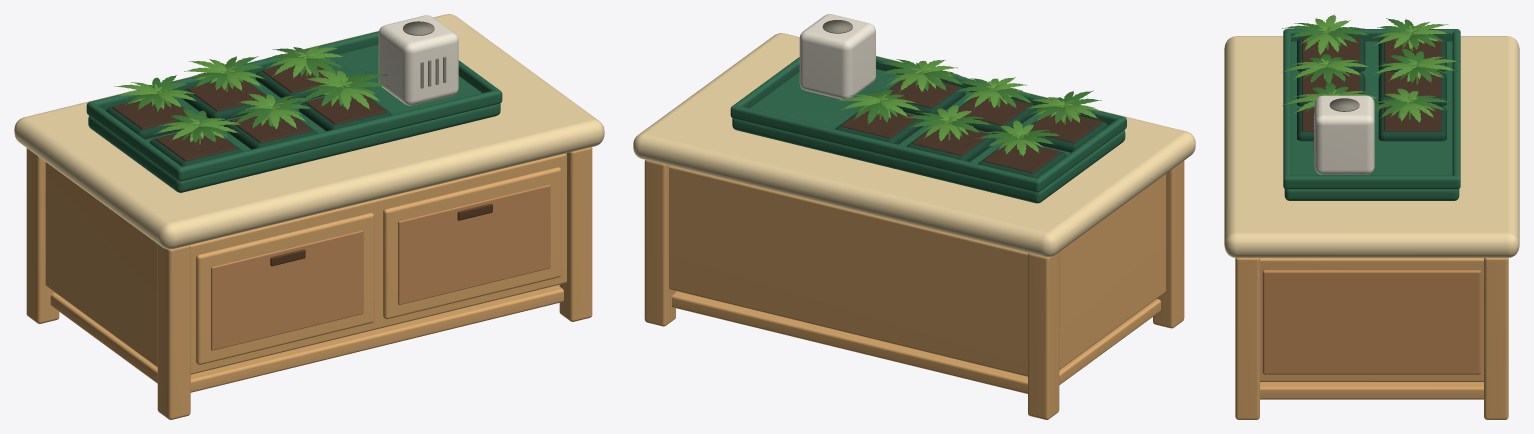
File: seeds_bench_tier1.glb
The picture shows the model from 3 angles, left to right: view 1: azimuth 30°, elevation 25°; view 2: azimuth 150°, elevation 25°; view 3: azimuth 270°, elevation 25°; orthographic projection. The views are drawn at different scales.
Parts seen in each view (by area): view 1: Top, Carcass, DrawerInset0, DrawerInset1, Stretcher, Tray, Drawer1, Drawer0, Leg-1-1, Humidifier, TrayRim1, Leg1-1 (+16 smaller); view 2: Carcass, Top, Tray, Stretcher, Humidifier, Leg-11, TrayRim0, Leg11, Leg-1-1, TrayRim3, Soil10, Soil00 (+12 smaller); view 3: Top, EndPanel, Tray, Carcass, Humidifier, Leg1-1, Leg11, Stretcher, TrayRim2, TrayRim0, TrayRim1, Soil12 (+32 smaller).
Part boxes in pixels (x1=…): Top: x1=14, y1=14, x2=604, y2=249; Carcass: x1=45, y1=153, x2=566, y2=374; DrawerInset0: x1=211, y1=230, x2=363, y2=350; DrawerInset1: x1=398, y1=184, x2=550, y2=304; Stretcher: x1=50, y1=285, x2=563, y2=392; Tray: x1=88, y1=44, x2=500, y2=192; Drawer1: x1=383, y1=167, x2=561, y2=319; Drawer0: x1=196, y1=212, x2=374, y2=364; Leg-1-1: x1=157, y1=244, x2=190, y2=419; Humidifier: x1=378, y1=15, x2=458, y2=105; TrayRim1: x1=176, y1=90, x2=502, y2=181; Leg1-1: x1=559, y1=147, x2=592, y2=321; Carcass: x1=669, y1=166, x2=1165, y2=376; Top: x1=633, y1=33, x2=1195, y2=257; Tray: x1=732, y1=69, x2=1125, y2=203; Stretcher: x1=672, y1=291, x2=1160, y2=393; Humidifier: x1=799, y1=14, x2=875, y2=99; Leg-11: x1=1028, y1=252, x2=1059, y2=419; TrayRim0: x1=730, y1=105, x2=1040, y2=192; Leg11: x1=644, y1=160, x2=675, y2=326; Leg-1-1: x1=1153, y1=161, x2=1184, y2=328; TrayRim3: x1=1036, y1=117, x2=1125, y2=190; Soil10: x1=983, y1=144, x2=1061, y2=173; Soil00: x1=1030, y1=114, x2=1102, y2=142; Top: x1=1224, y1=36, x2=1519, y2=257; EndPanel: x1=1262, y1=269, x2=1481, y2=374; Tray: x1=1284, y1=41, x2=1459, y2=200; Carcass: x1=1260, y1=258, x2=1483, y2=381; Humidifier: x1=1314, y1=95, x2=1374, y2=174; Leg1-1: x1=1235, y1=258, x2=1259, y2=419; Leg11: x1=1484, y1=258, x2=1508, y2=419; Stretcher: x1=1260, y1=382, x2=1483, y2=399; TrayRim2: x1=1288, y1=175, x2=1455, y2=189; TrayRim0: x1=1452, y1=29, x2=1460, y2=189; TrayRim1: x1=1283, y1=29, x2=1291, y2=189; Soil12: x1=1384, y1=106, x2=1441, y2=131.
Size of the model in its own units: 1.78 by 1.06 by 1.08.
